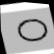no answer: (14, 13, 53, 48)
